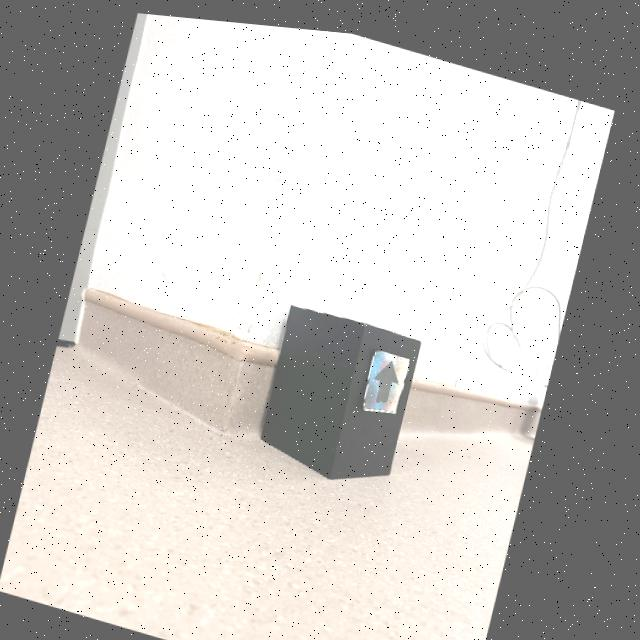UP: (377, 353, 401, 395)
